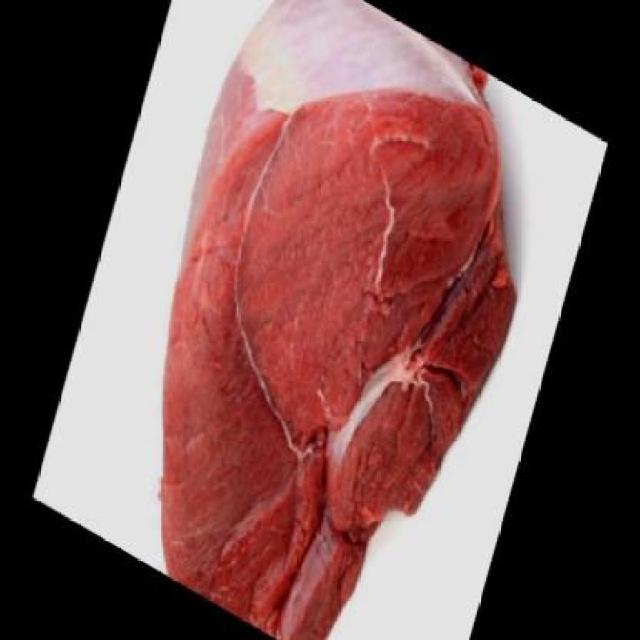beef: (140, 0, 532, 640)
